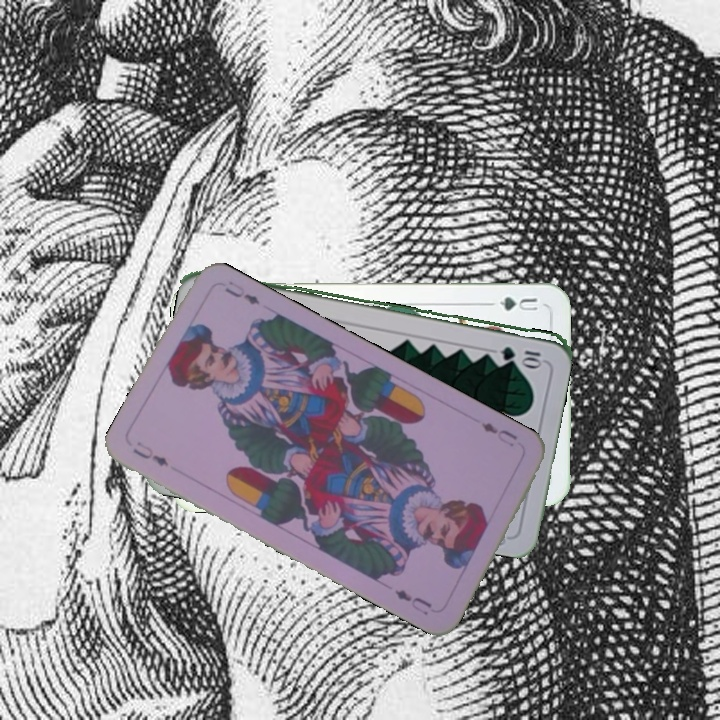EU: (476, 418, 521, 450), (128, 437, 172, 469)
G10: (496, 342, 544, 365)
GU: (485, 293, 540, 314)
